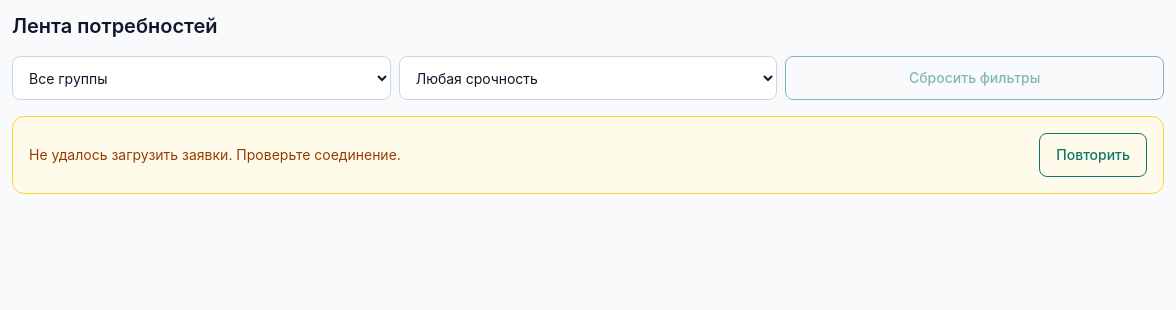
FeedPage — обработка ошибки сети › баннер «Повторить» восстанавливает ленту
Expected: the message "Не удалось загрузить заявки. Проверьте соединение. Повторить" is shown, x1=12 y1=116 x2=1164 y2=194
Expected: the text "Не удалось загрузить заявки. Проверьте соединение." is shown, x1=29 y1=145 x2=401 y2=165
Click the button "Повторить" at (1093, 155), box x1=1039 y1=133 x2=1147 y2=177
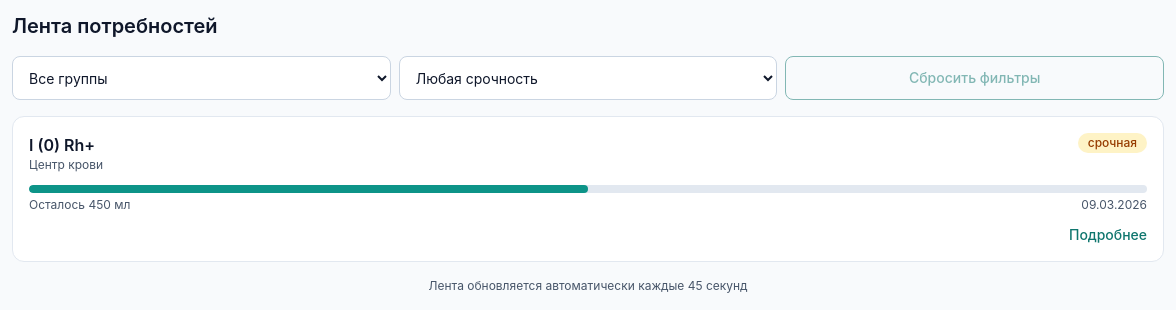
Expected: the text "I (0) Rh+" is shown, x1=29 y1=133 x2=103 y2=157
Expected: the message "Не удалось загрузить заявки. Проверьте соединение. Повторить" is gone
